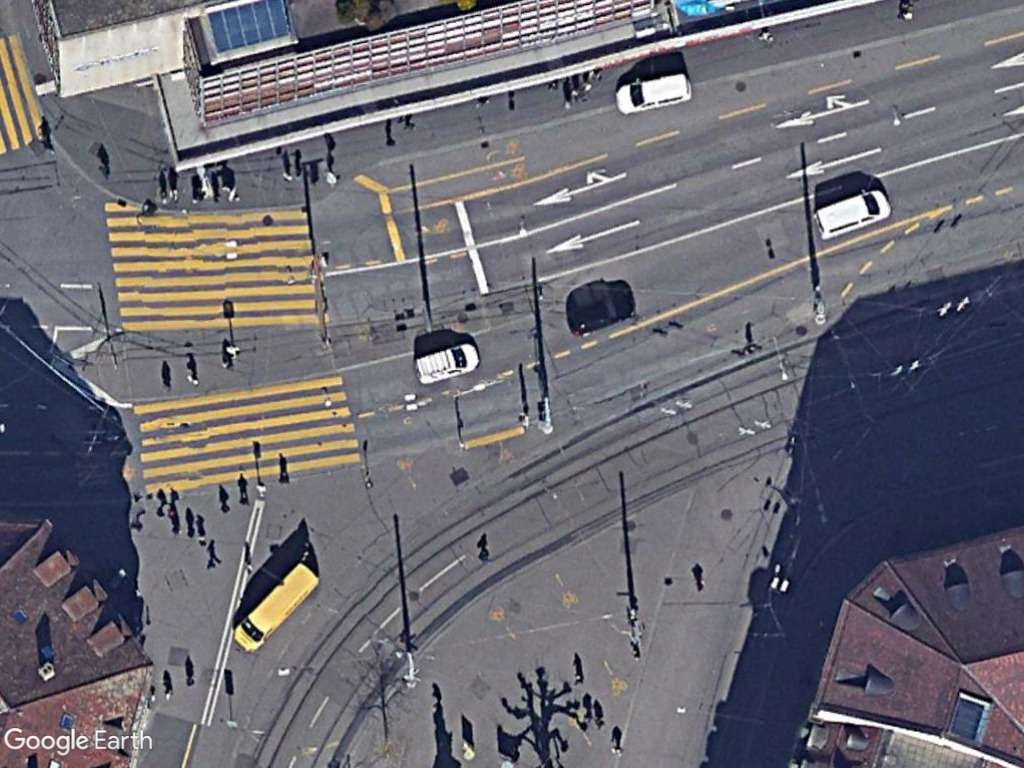van: (230, 560, 320, 657), (811, 188, 892, 241), (615, 72, 694, 116), (411, 340, 480, 386)
